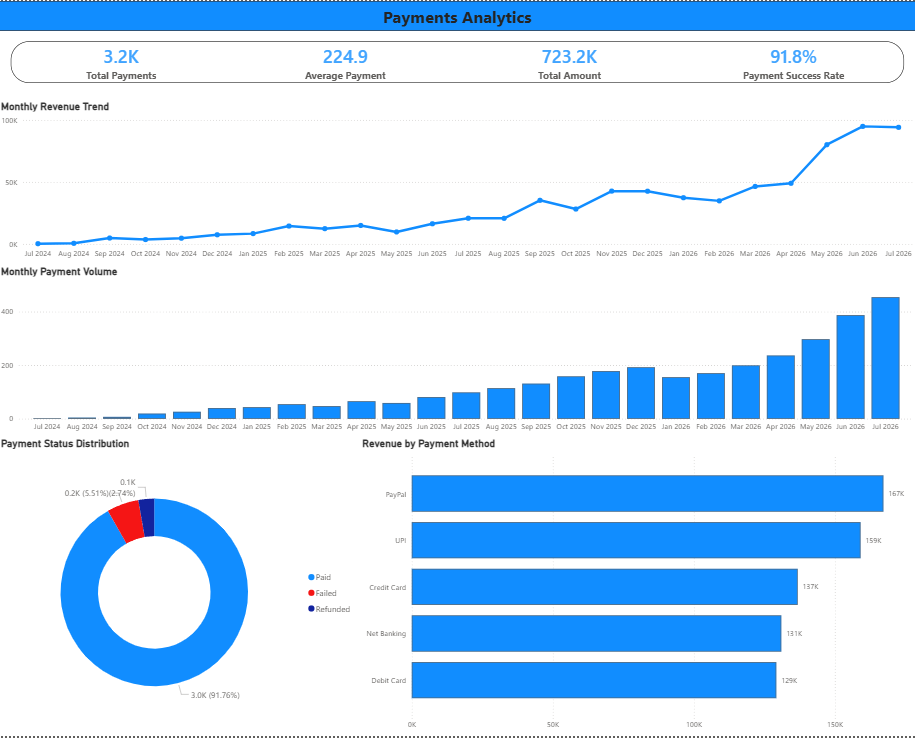

What the dashboard file says about the page in this screenshot:
{"tool":"powerbi","page":{"name":"Payments Analytics","canvas":[1500,1200],"ordinal":1},"visuals":[{"type":"textbox","box":[0,0,1500,49],"z":0},{"type":"lineChart","title":"Monthly Revenue Trend","fields":{"Category":["Date Table.Month Year"],"Y":["Sum(fact_payments.amount)"]},"box":[0,161.2,1500,269.4],"z":1000},{"type":"cardVisual","fields":{"Data":["Measure Table.Total Payments","Measure Table.Average Payment Amount","Measure Table.Total Payment Amount","Measure Table.Payment Success Rate"]},"box":[4.1,49,1495.9,102],"z":2000},{"type":"donutChart","title":"Payment Status Distribution","fields":{"Category":["fact_payments.payment_status"],"Y":["Measure Table.Monthly Payments"]},"box":[0,712.2,589.8,487.8],"z":3000},{"type":"clusteredColumnChart","title":"Monthly Payment Volume","fields":{"Category":["Date Table.Month Year"],"Y":["Measure Table.Monthly Payments"]},"box":[0,430.6,1500,281.6],"z":4000},{"type":"clusteredBarChart","title":"Revenue by Payment Method","fields":{"Category":["fact_payments.payment_method"],"Y":["Measure Table.Total Payment Amount"]},"box":[589.8,712.2,910.2,487.8],"z":5000}]}

Visuals, with their boxes in screenshot pixels (x1, y1, x2, y2), scaled from the page's 1500x1200 canvas onto the 915x738 screenshot:
textbox: (0, 0, 914, 30)
"Monthly Revenue Trend" lineChart: (0, 99, 914, 265)
cardVisual - Measure Table.Total Payments x Measure Table.Average Payment Amount: (3, 30, 914, 93)
"Payment Status Distribution" donutChart: (0, 438, 360, 737)
"Monthly Payment Volume" clusteredColumnChart: (0, 265, 914, 438)
"Revenue by Payment Method" clusteredBarChart: (360, 438, 914, 737)
